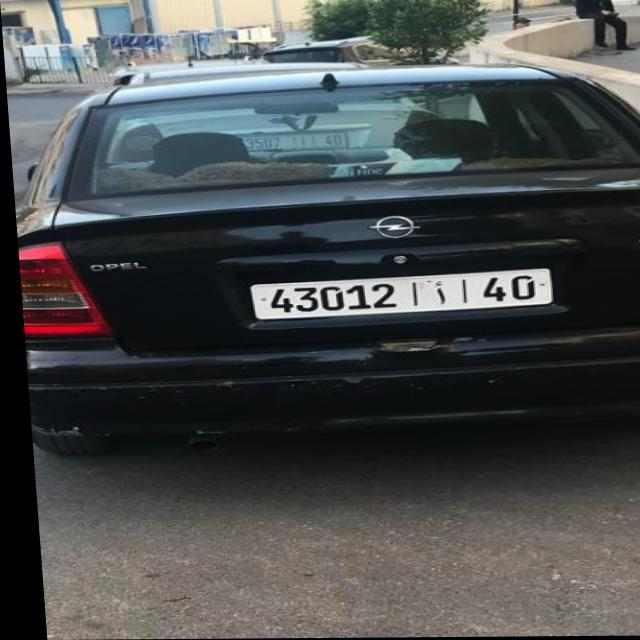License-Plate: (249, 270, 549, 320)
